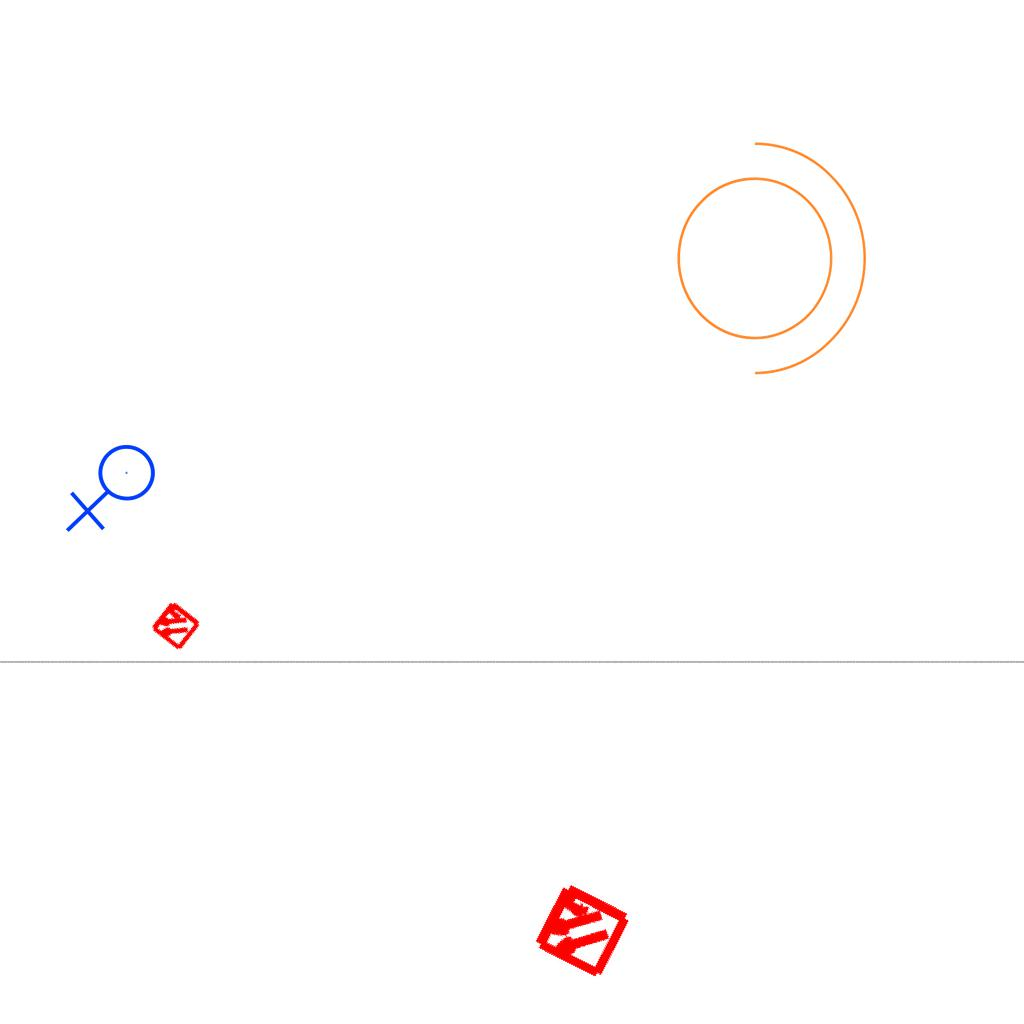Elektroanschluss_allgemein_230V_Geraeteanschlussdose_230V: (65, 443, 164, 537)
OT_Multisensormelder_(Kombination_RMO_WMD): (504, 853, 657, 1006), (135, 585, 215, 665)
Scheinwerfer_fuer_Alarmbeleuchtung: (652, 120, 877, 384)
